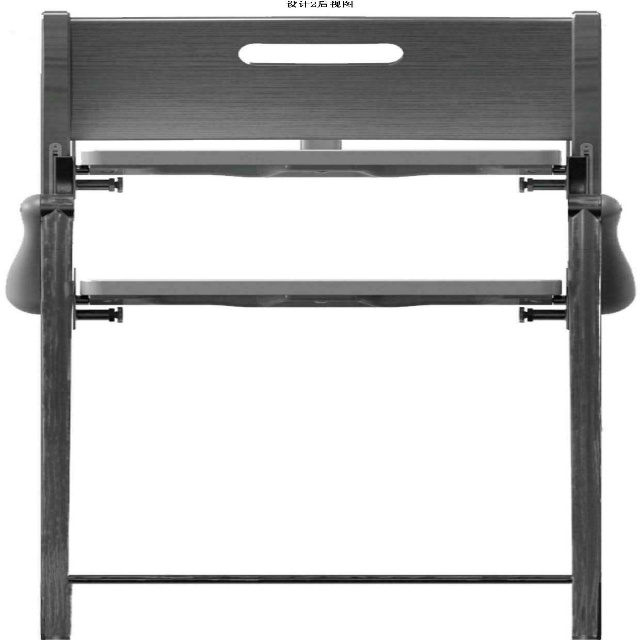obstacle: (41, 12, 601, 640)
